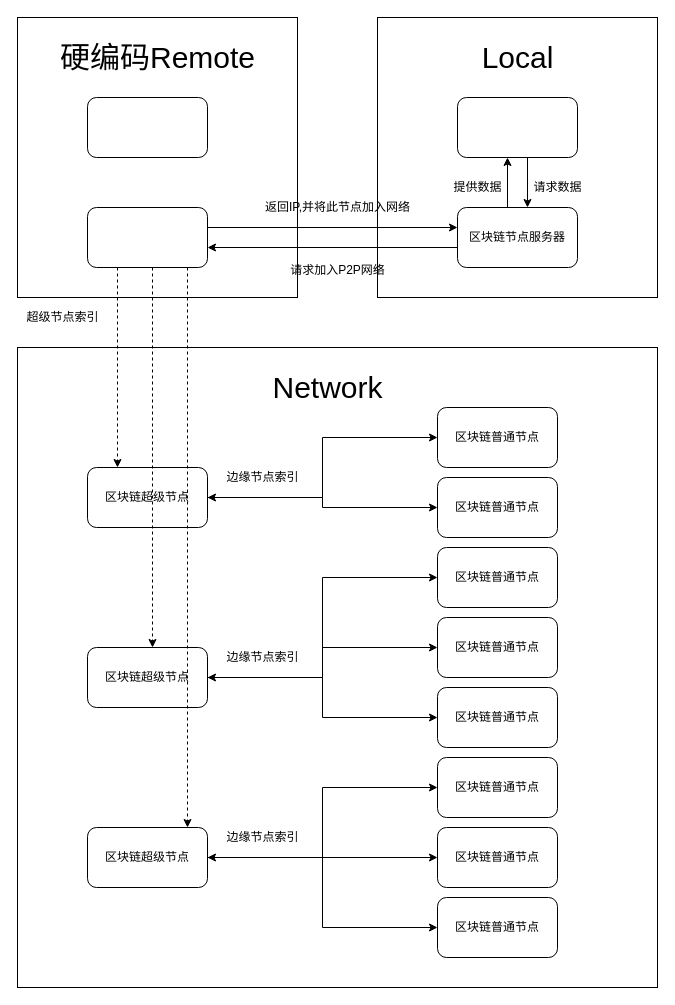
Image size: 675x1005. Some labels were removed from this diagram. Here are the shapes that lost their labels. From the top down, the box of each, then its label:
(86, 96, 208, 158): Protocol
(456, 96, 578, 158): 本地前端
(86, 206, 208, 268): DNS
